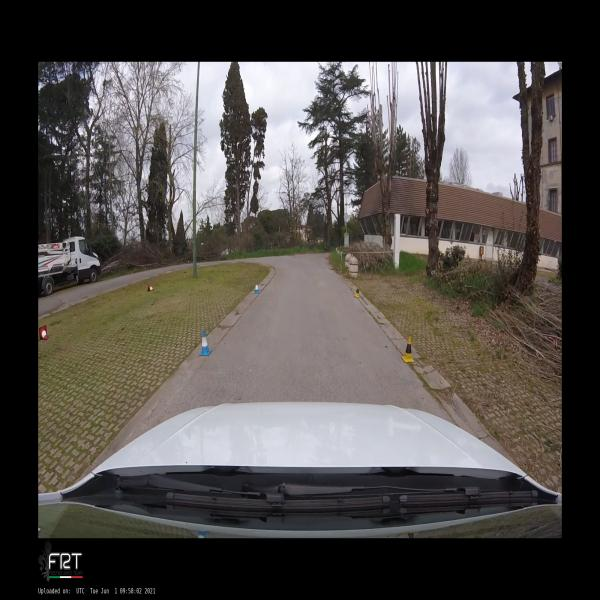blue_cone: (199, 331, 211, 355), (254, 282, 260, 294)
orange_cone: (39, 325, 47, 340), (148, 283, 154, 292)
yellow_cone: (401, 336, 414, 362), (354, 286, 359, 298)
